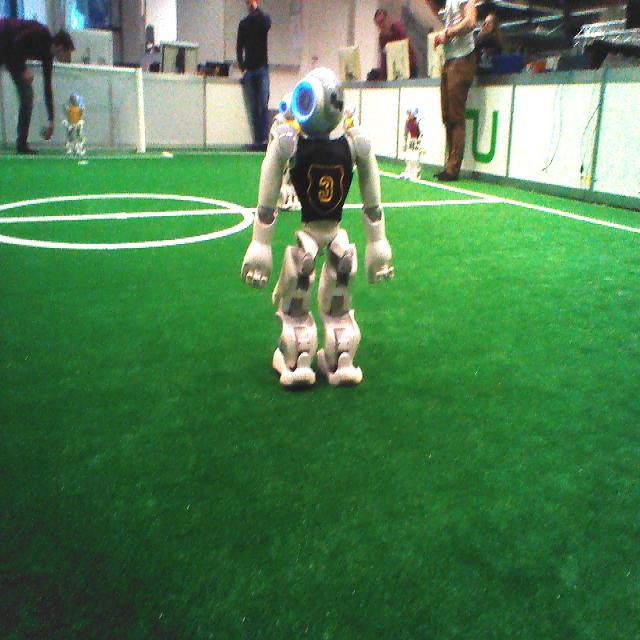goalpost: (134, 68, 146, 151)
